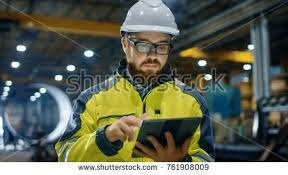helmet: (117, 1, 181, 37)
person with partial safety: (74, 1, 213, 162)
